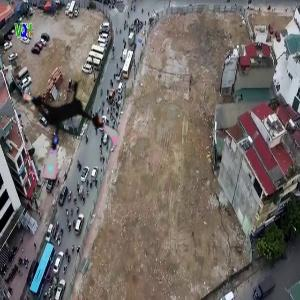drone: (9, 73, 124, 188)
